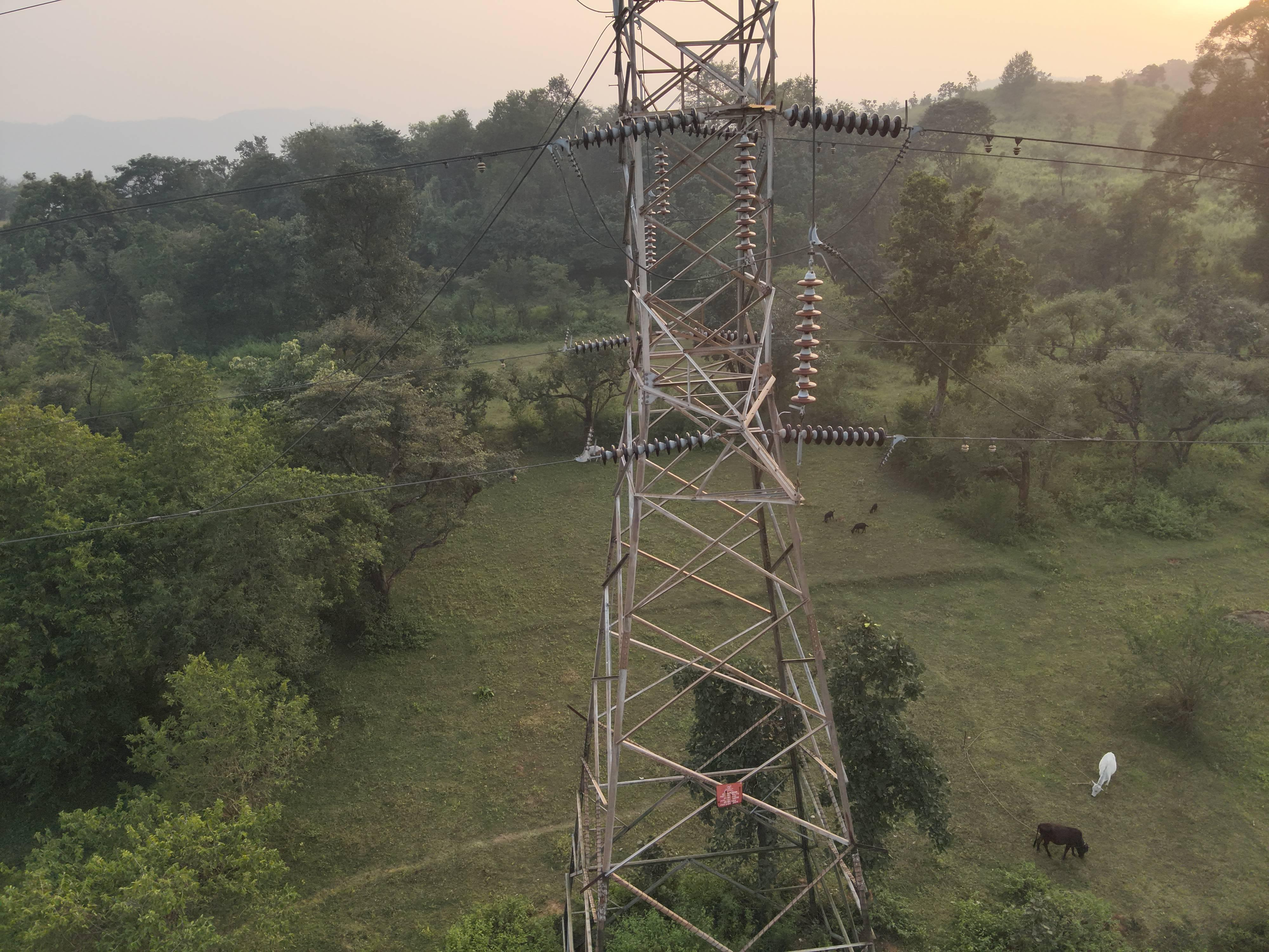broken_insulator: (792, 380, 817, 390), (793, 354, 819, 361)
